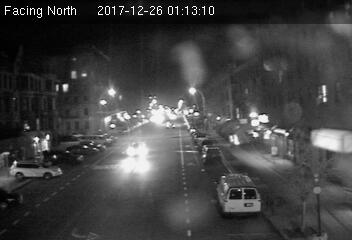car: (125, 142, 150, 159), (203, 146, 222, 164)
truck: (210, 170, 263, 217)
